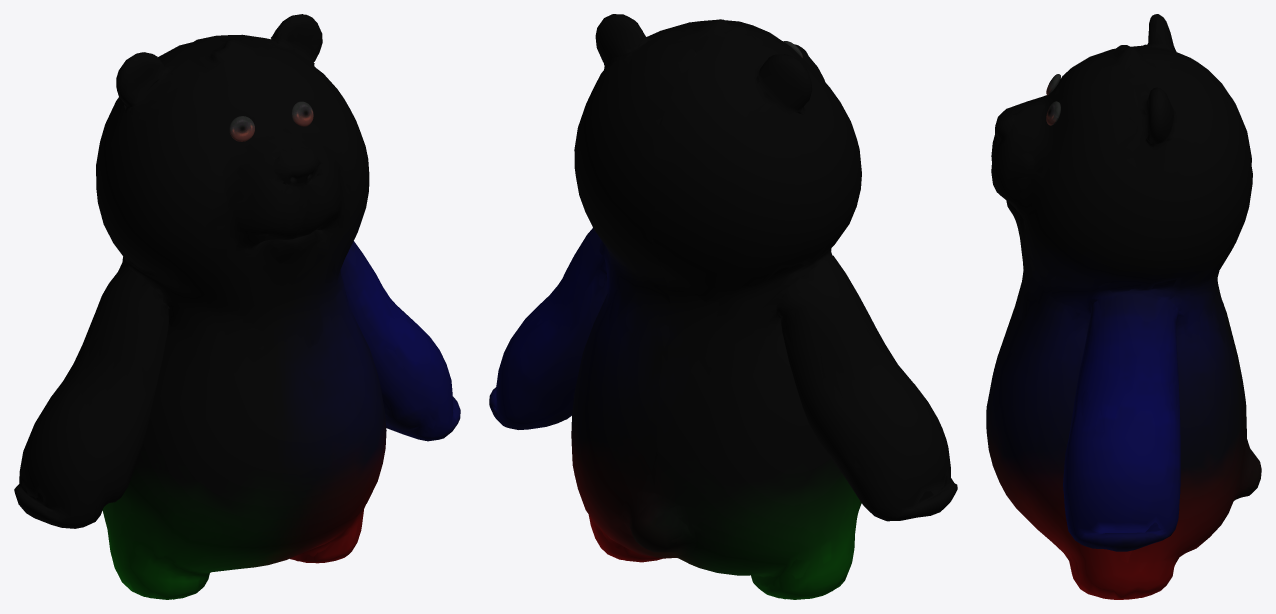
The model's file is bear_shell_v2.glb.
3 renders of one model, left to right at view 1: azimuth 30°, elevation 25°; view 2: azimuth 150°, elevation 25°; view 3: azimuth 270°, elevation 25°, orthographic. The views are drawn at different scales.
Parts seen in each view (by area): view 1: BoundedShellGroom, Body, BrownBear_Normal; view 2: BoundedShellGroom, Body; view 3: BoundedShellGroom, Body, BrownBear_Normal.
Part boxes in pixels (x1,y1,x2,y2): BoundedShellGroom: (14,14,460,599); Body: (21,20,453,583); BrownBear_Normal: (229,101,313,141); BoundedShellGroom: (489,14,957,599); Body: (492,16,951,586); BoundedShellGroom: (986,14,1261,599); Body: (995,17,1252,576); BrownBear_Normal: (1046,74,1060,125).
Bounding box in the file's own units: 2.12 × 2.45 × 1.22.
3 materials, 3 textured.
